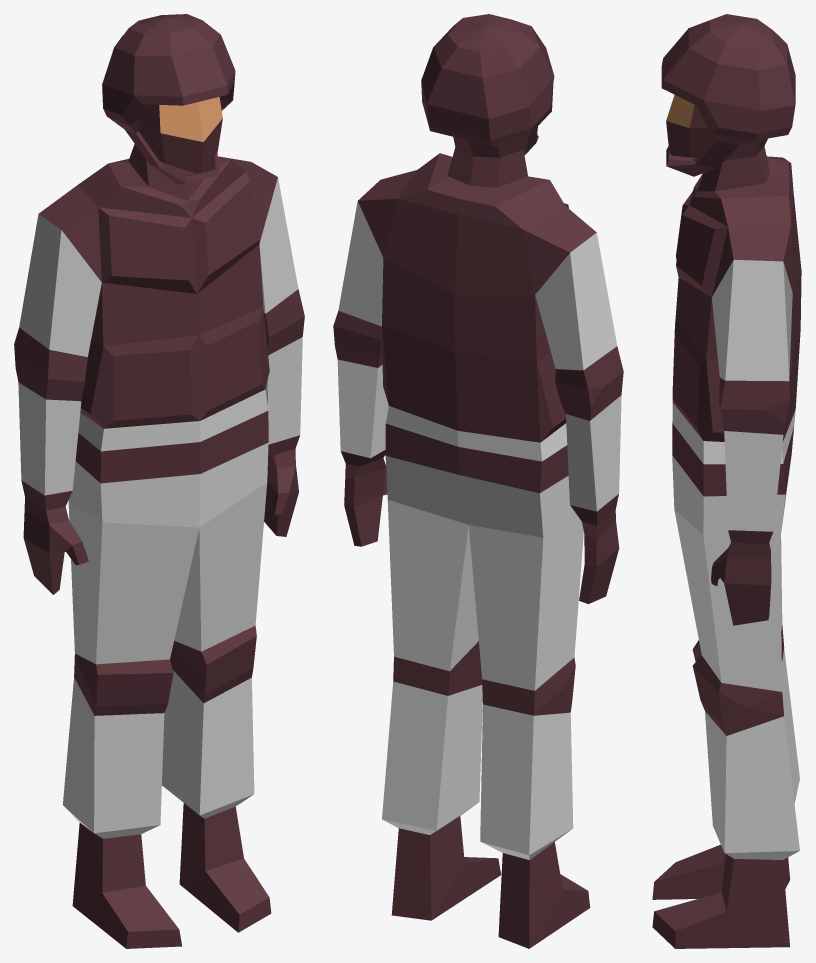
The model's file is man-swat.fbx.
3 renders of one model, left to right at view 1: azimuth 30°, elevation 25°; view 2: azimuth 150°, elevation 25°; view 3: azimuth 270°, elevation 25°, orthographic.
Visible parts, largest first — view 1: man-swat; view 2: man-swat; view 3: man-swat.
Boxes of the visible parts, bbox=[...] form: man-swat: bbox=[14, 14, 304, 948]; man-swat: bbox=[333, 14, 623, 948]; man-swat: bbox=[652, 14, 801, 948].
Size of the model in its own units: 0.5537 by 1.82 by 0.2769.
